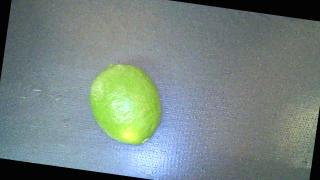EXPORTACION: (84, 61, 167, 148)
